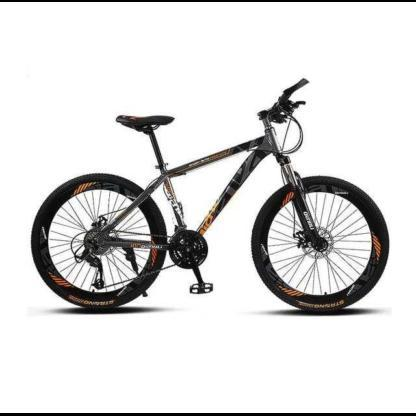Bicycle: (16, 66, 399, 332)
